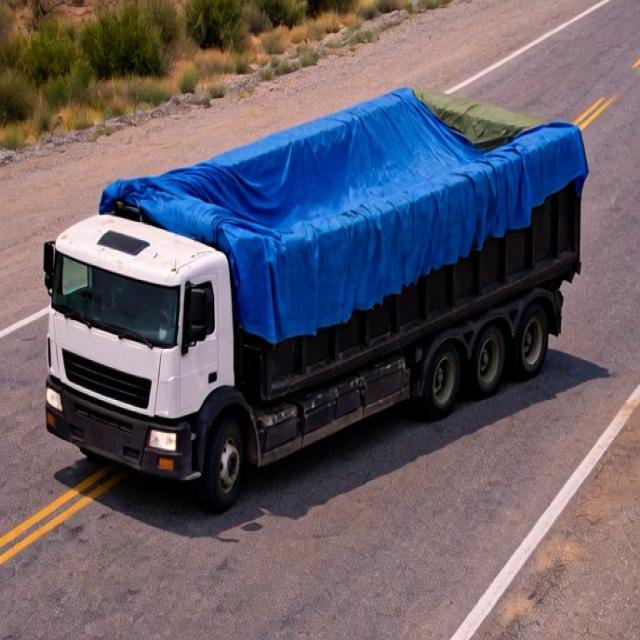trailer: (105, 88, 590, 274)
truck: (29, 74, 598, 478)
